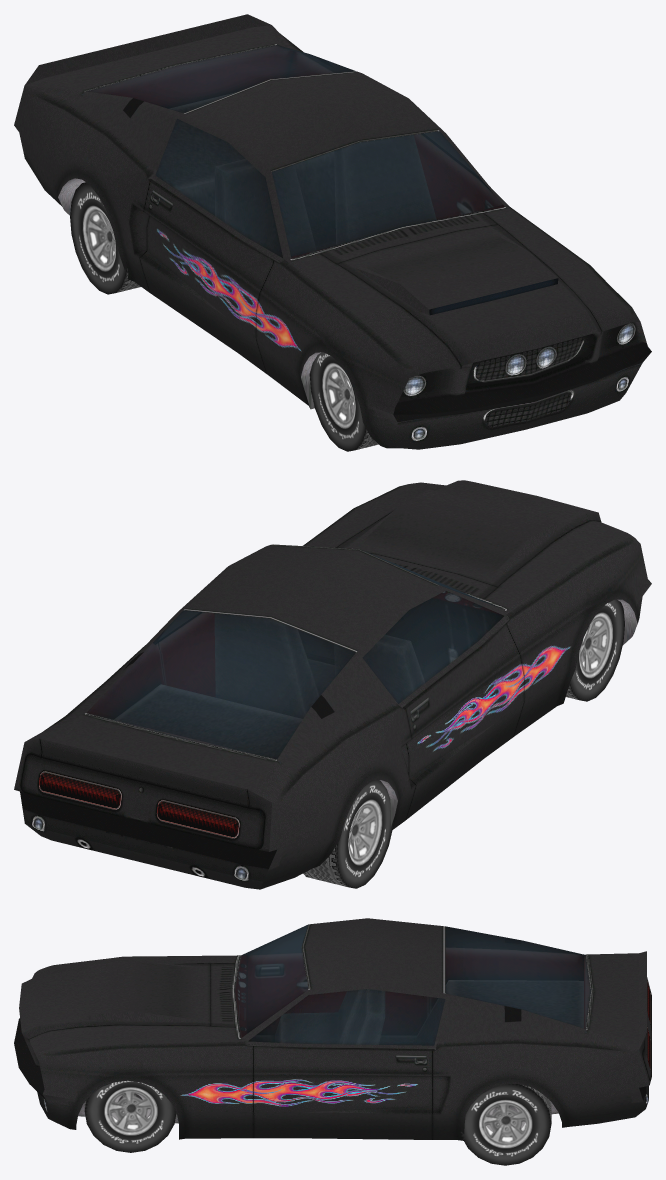
3 views of the same model, one above another, from view 1: azimuth 30°, elevation 25°; view 2: azimuth 150°, elevation 25°; view 3: azimuth 270°, elevation 25° (orthographic). The views are drawn at different scales.
Visible parts, largest first — view 1: BODY, INTERIOR, WHEEL_2, WHEEL_0; view 2: BODY, INTERIOR, WHEEL_2, WHEEL_0; view 3: BODY, INTERIOR, WHEEL_3, WHEEL_1.
Boxes of the visible parts, x1,y1,x2,y2 form: BODY: (14,14,651,449); INTERIOR: (89,45,503,257); WHEEL_2: (70,182,140,294); WHEEL_0: (309,352,378,451); BODY: (14,480,651,889); INTERIOR: (87,591,503,758); WHEEL_2: (303,780,393,888); WHEEL_0: (566,599,624,701); BODY: (14,918,651,1140); INTERIOR: (235,948,590,1044); WHEEL_3: (460,1084,551,1165); WHEEL_1: (84,1080,176,1152).
Size of the model in its own units: 1.91 by 1.41 by 4.7.
Materials: 21 (21 with a texture image).
